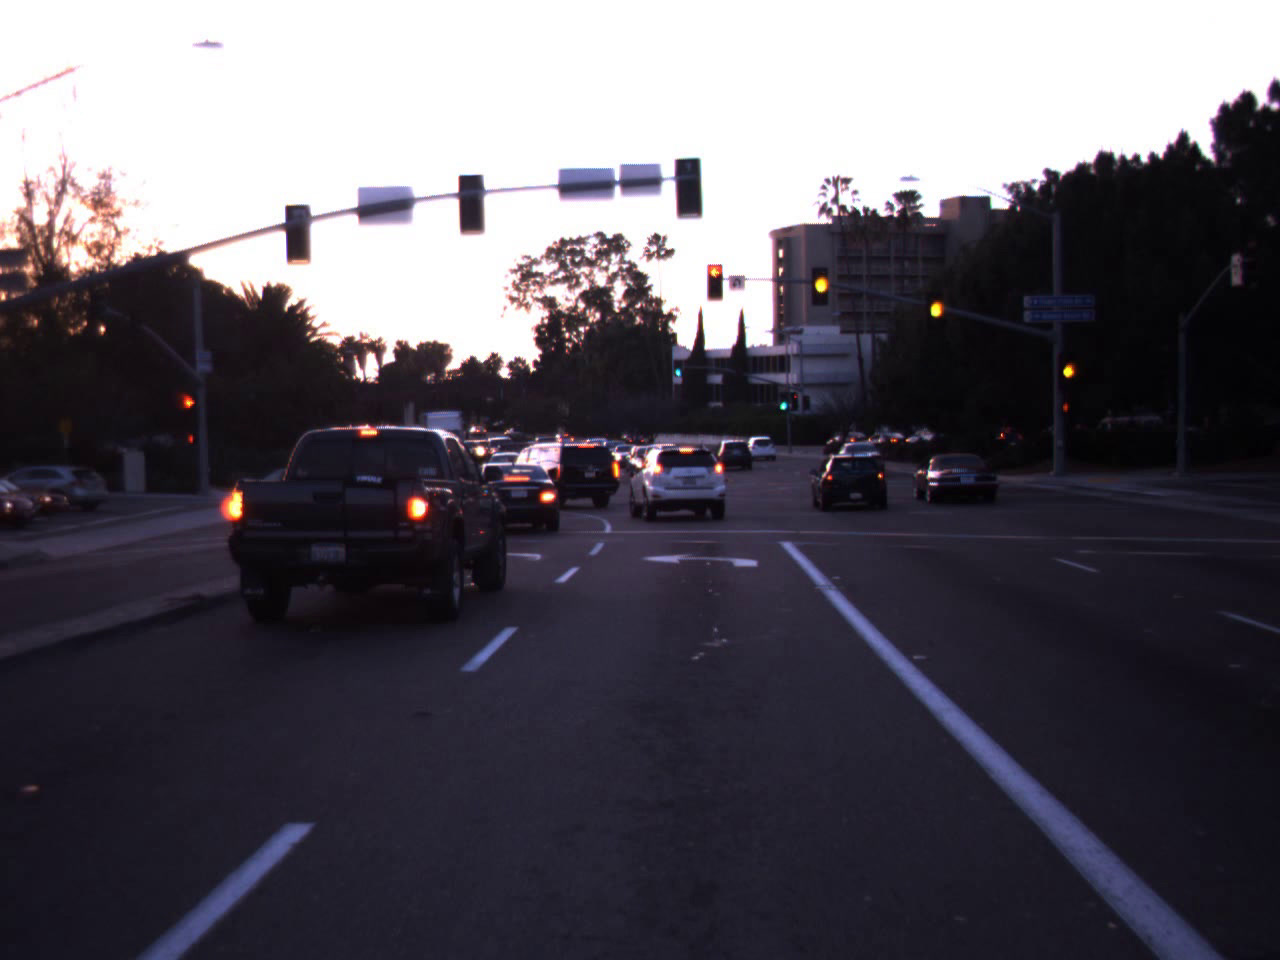go: (774, 373, 792, 413), (672, 349, 684, 379)
stop: (694, 259, 736, 308), (177, 395, 201, 431)
warning: (806, 253, 836, 311), (1056, 349, 1080, 389), (923, 290, 950, 321)
